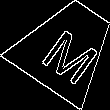M_NE: (32, 13, 101, 81)
